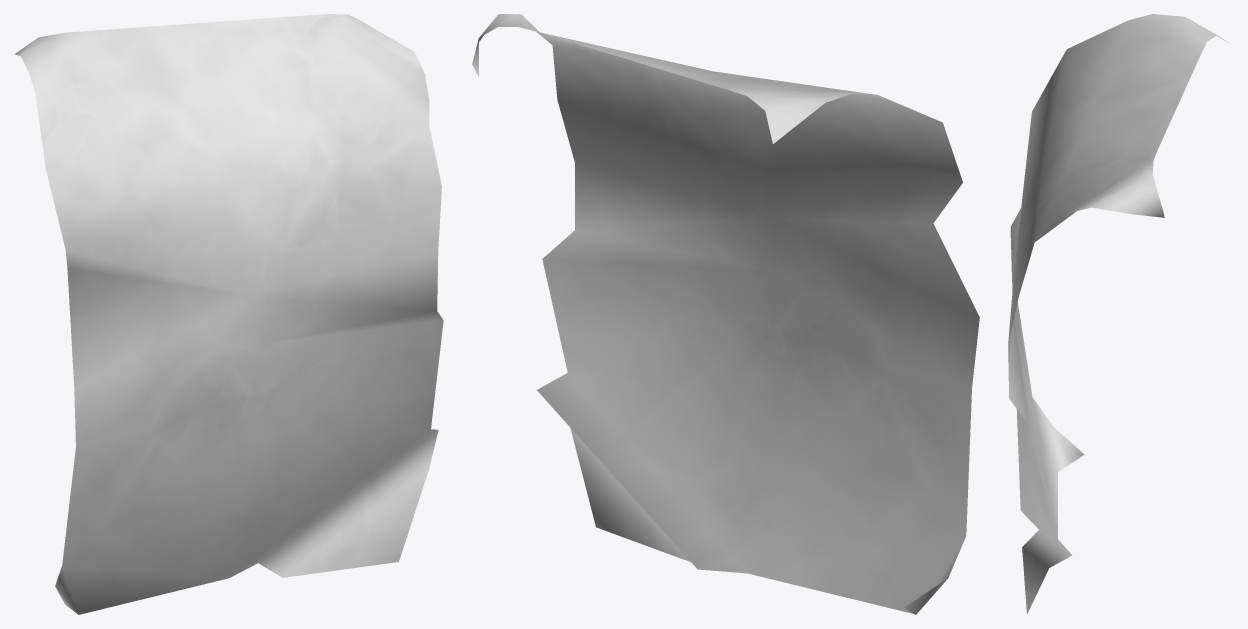
Rendered from Paper.dae.
3 views of the same model, side by side, from view 1: azimuth 30°, elevation 25°; view 2: azimuth 150°, elevation 25°; view 3: azimuth 270°, elevation 25° (orthographic). The views are drawn at different scales.
Parts seen in each view (by area): view 1: Plane; view 2: Plane; view 3: Plane.
Part boxes in pixels (<box>): Plane: <box>14,14,443,614</box>; Plane: <box>472,14,979,614</box>; Plane: <box>1008,14,1231,614</box>.
Size of the model in its own units: 2.13 by 1.18 by 2.71.
Materials: 1 (1 with a texture image).
